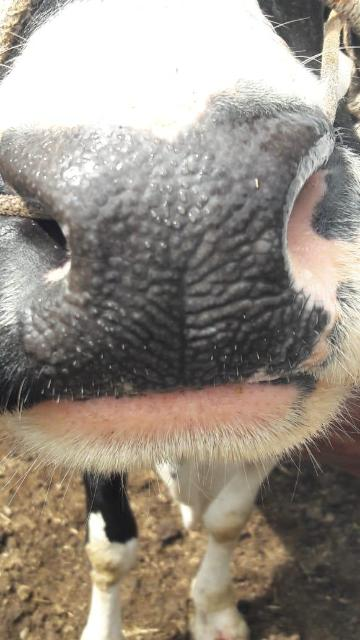Muzzle: (52, 147, 292, 379)
